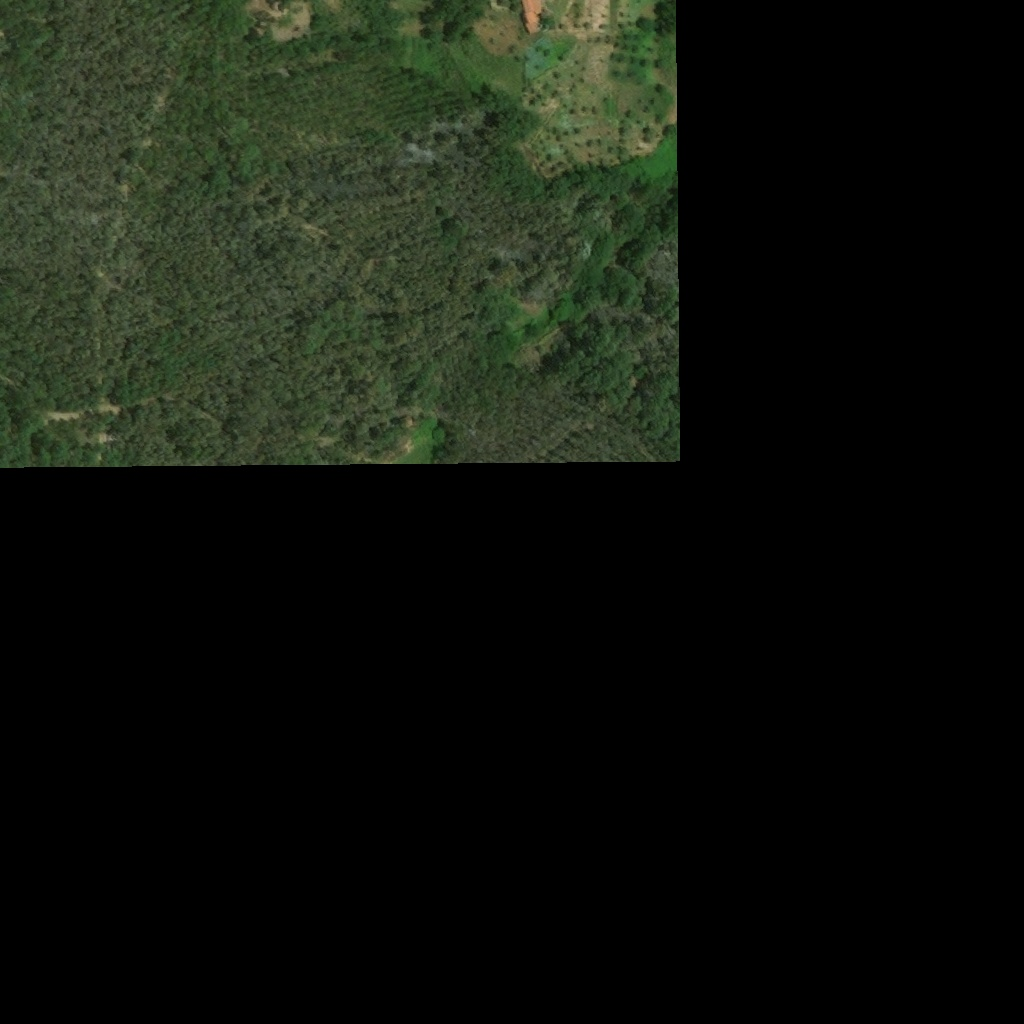0 no-damage: (523, 0, 548, 35)
